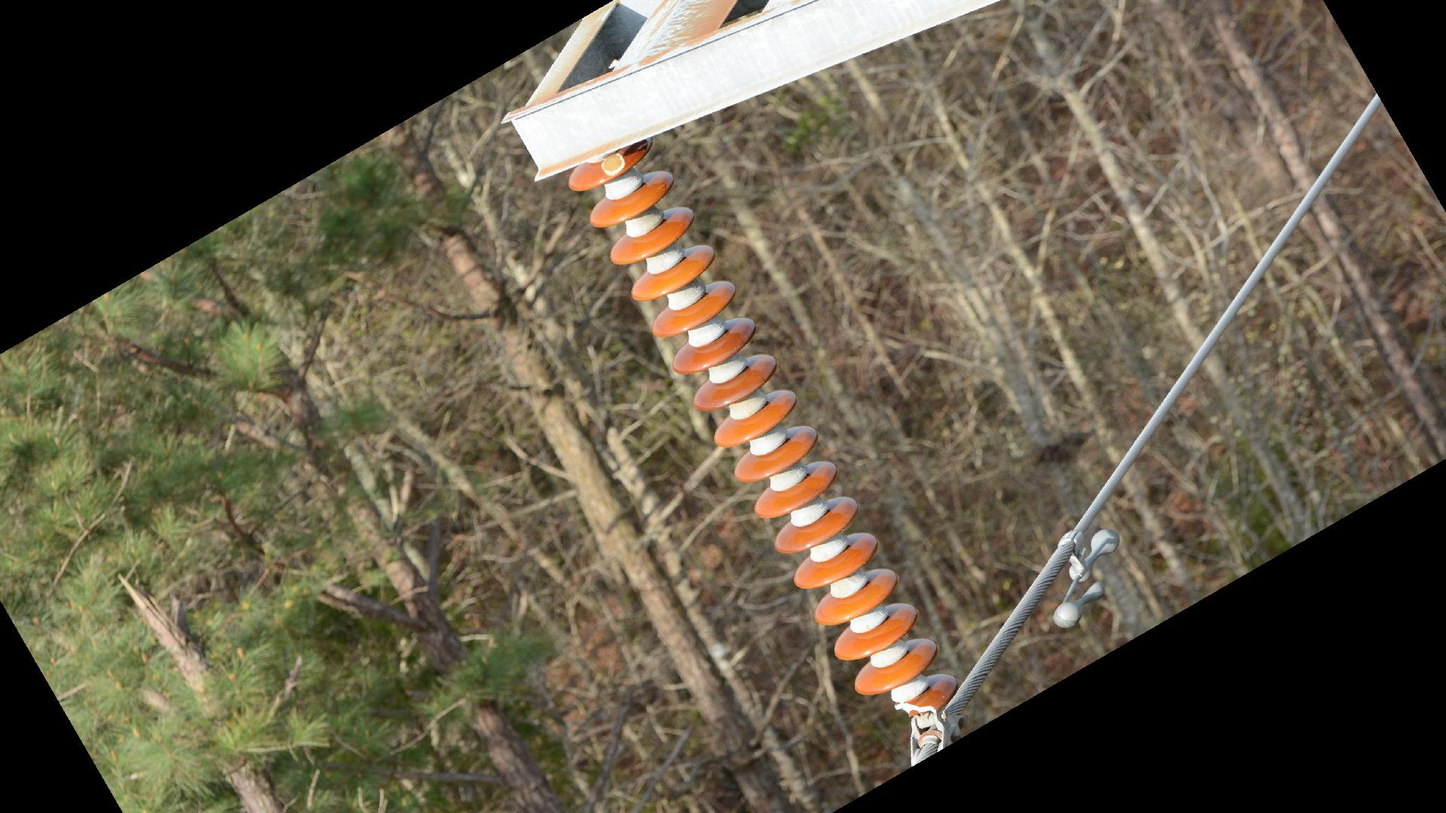insulator: (566, 138, 962, 720)
insulator_breakage: (891, 697, 938, 718)
insulator_flashover: (597, 150, 627, 178)
